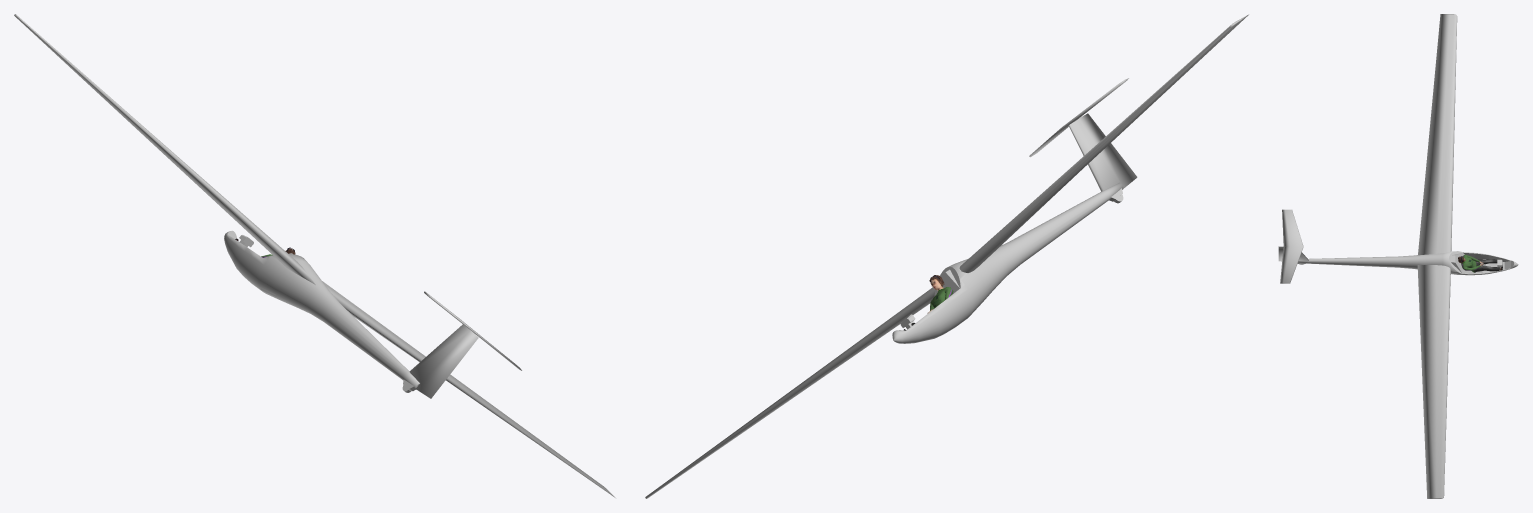
Rendered from glider-blue-thermal-cbj_LOD00.gltf.
3 renders of one model, left to right at view 1: azimuth 30°, elevation 25°; view 2: azimuth 150°, elevation 25°; view 3: azimuth 270°, elevation 25°, orthographic. The views are drawn at different scales.
Visible parts, largest first — view 1: glider00; view 2: glider00; view 3: glider00.
Boxes of the visible parts, bbox=[...] form: glider00: bbox=[14, 14, 615, 497]; glider00: bbox=[645, 14, 1248, 498]; glider00: bbox=[1278, 14, 1518, 498].
Size of what is drawn, in the model's own units: 10.64 by 10.65 by 7.
